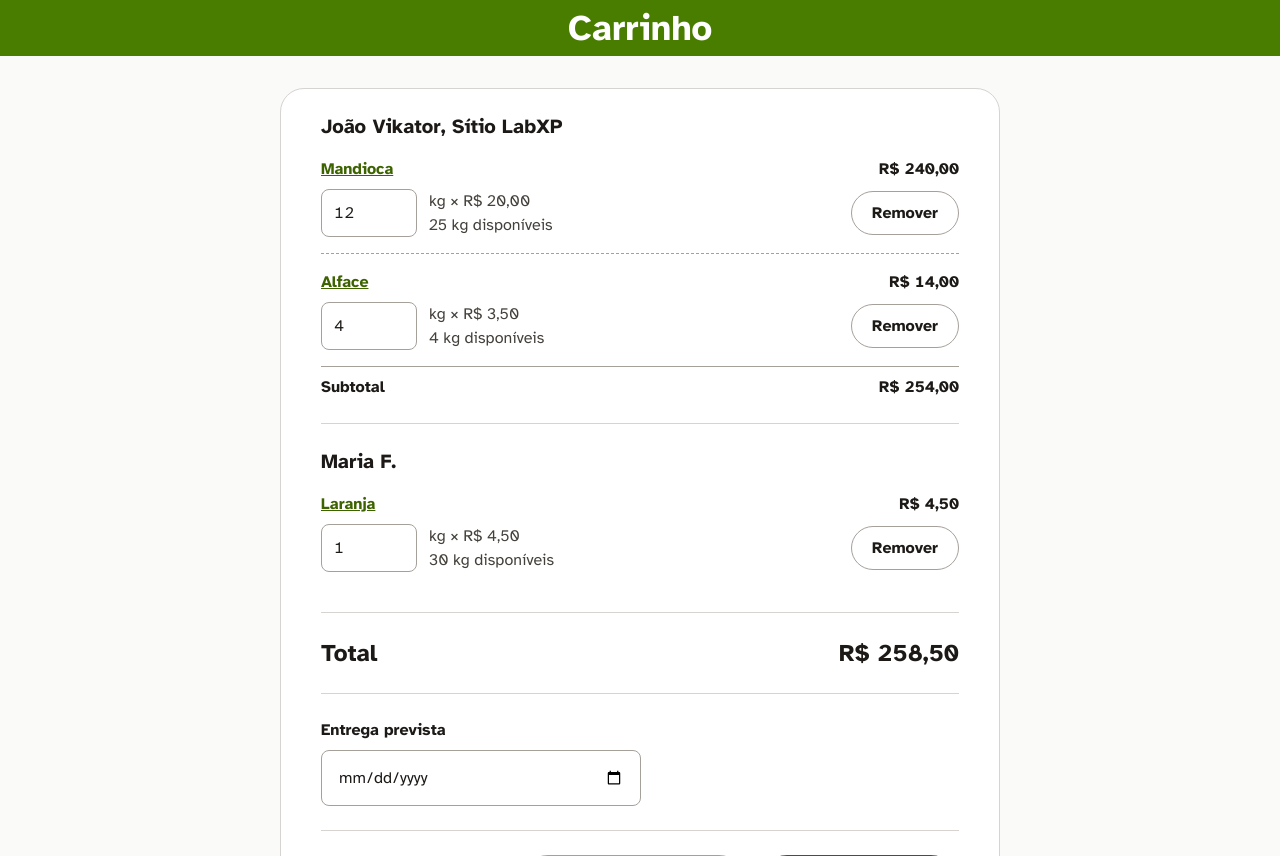
Scenario: Cart › removes a product and leaves a way to bring it back in its place
This screenshot has width=1280, height=856.
Click the button with aria-label "Remover Mandioca" at coordinates (905, 213), box [851,191,959,235]
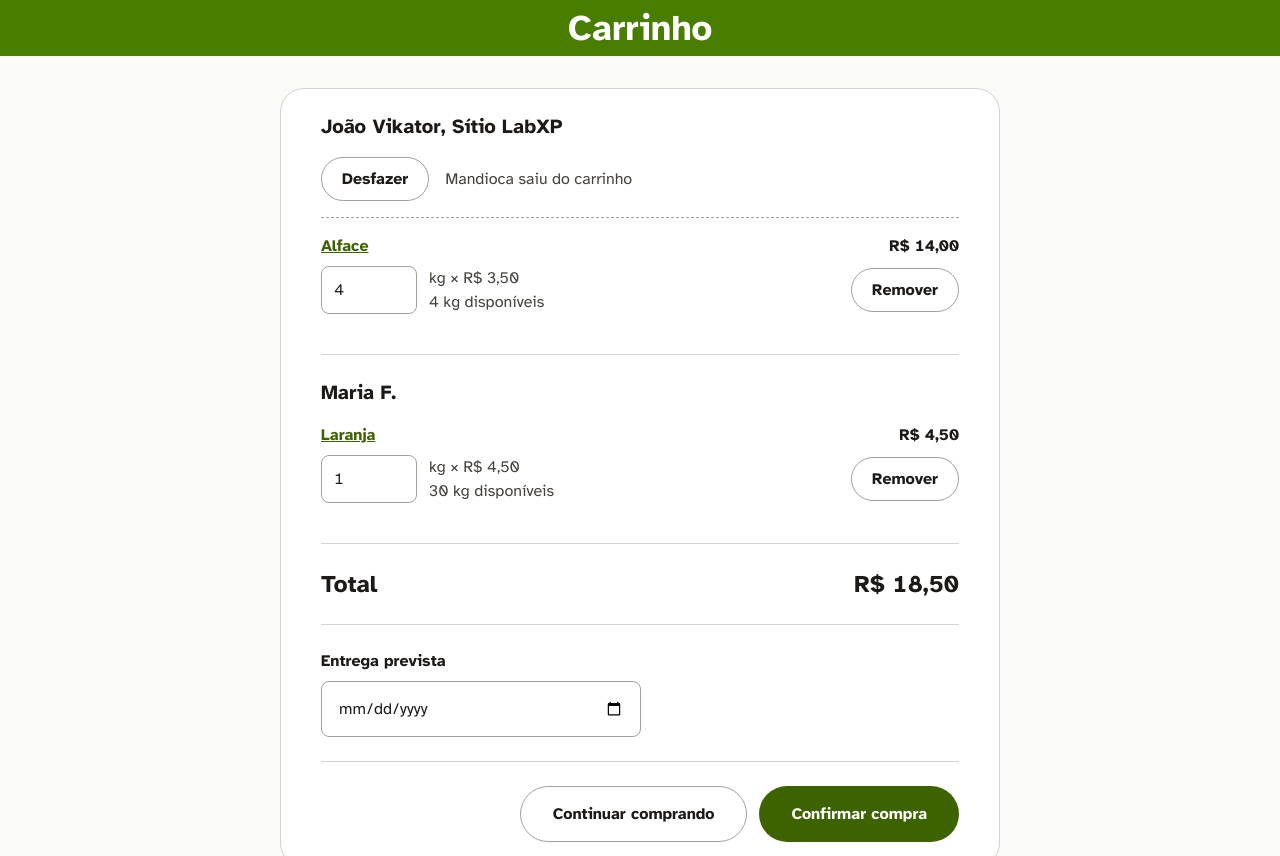
expect the element "João Vikator, Sítio LabXP" no longer shows "Subtotal": met, box [321,89,959,355]
expect the text "Total R$ 18,50" is shown: met, box [321,544,959,625]
Click the button "Desfazer" at coordinates (375, 179), box [321,157,429,201]
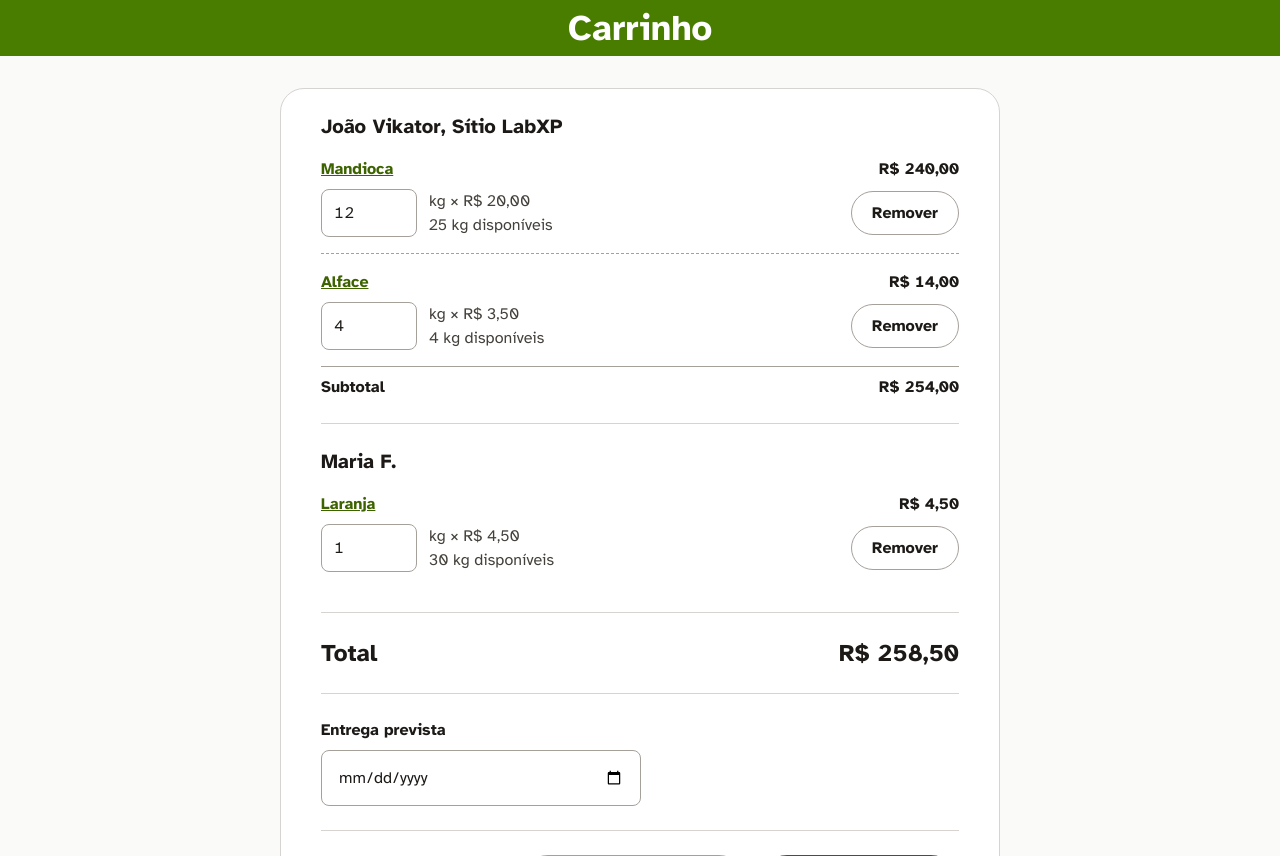
expect the text "Total R$ 258,50" is shown: met, box [321,613,959,694]
